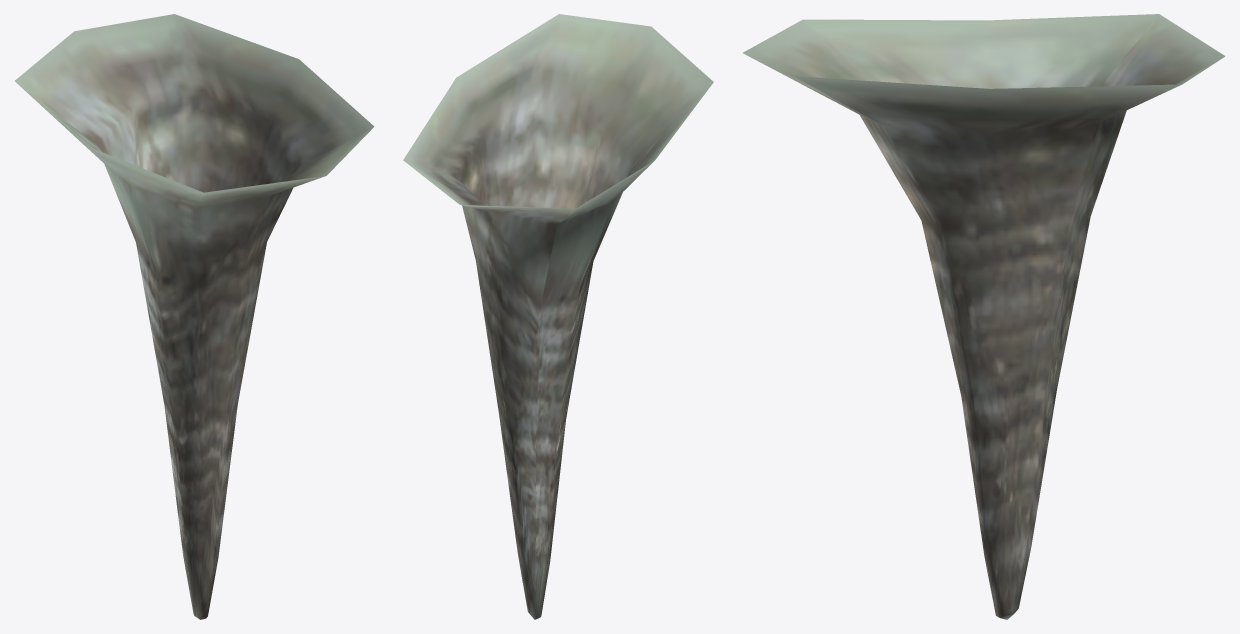
File: TROLLHOLE02_PS-MAINSTALAG25.fbx
3 renders of one model, left to right at view 1: azimuth 30°, elevation 25°; view 2: azimuth 150°, elevation 25°; view 3: azimuth 270°, elevation 25°, orthographic. The views are drawn at different scales.
Parts seen in each view (by area): view 1: TROLLHOLE02_PS-MAINSTALAG25; view 2: TROLLHOLE02_PS-MAINSTALAG25; view 3: TROLLHOLE02_PS-MAINSTALAG25.
Boxes of the visible parts, x1,y1,x2,y2 form: TROLLHOLE02_PS-MAINSTALAG25: [15, 14, 374, 619]; TROLLHOLE02_PS-MAINSTALAG25: [403, 14, 713, 619]; TROLLHOLE02_PS-MAINSTALAG25: [743, 14, 1225, 619].
Bounding box in the file's own units: 8753 × 21986 × 16544.
1 material, 1 textured.
